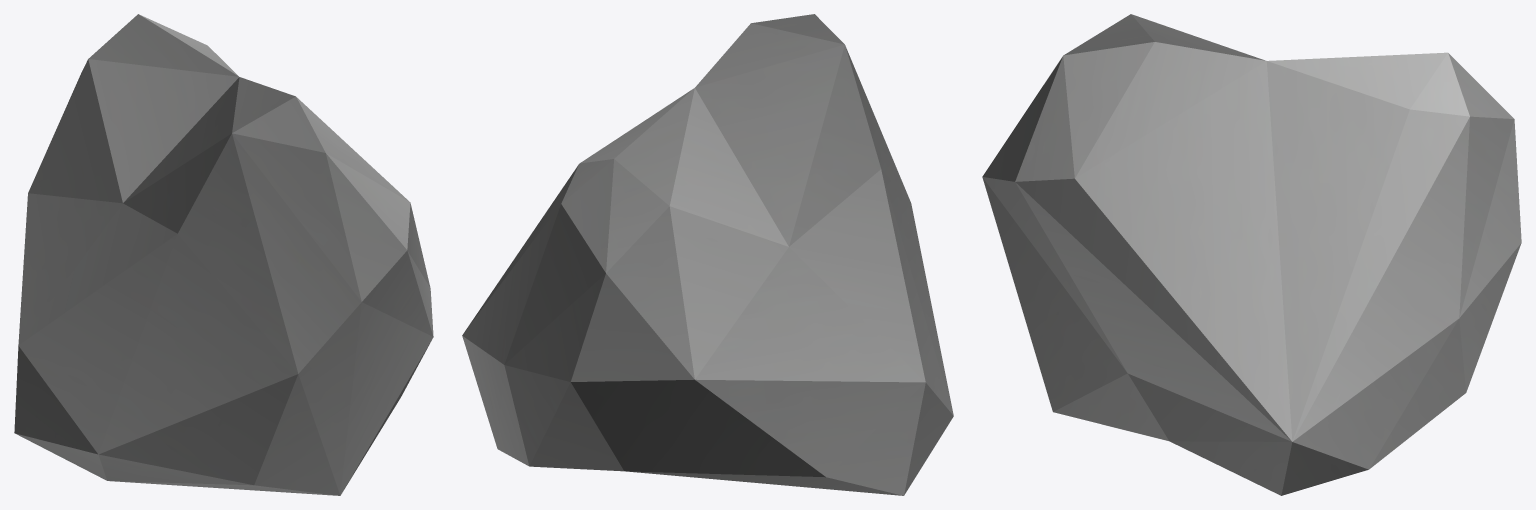
File: Rock_4.fbx
3 renders of one model, left to right at view 1: azimuth 30°, elevation 25°; view 2: azimuth 150°, elevation 25°; view 3: azimuth 270°, elevation 25°, orthographic. The views are drawn at different scales.
Parts seen in each view (by area): view 1: Rock 4; view 2: Rock 4; view 3: Rock 4.
Part boxes in pixels (bbox=[...]): Rock 4: bbox=[14, 14, 433, 495]; Rock 4: bbox=[462, 14, 953, 495]; Rock 4: bbox=[982, 14, 1521, 495].
Size of the model in its own units: 6.15 by 5.5 by 6.62.
